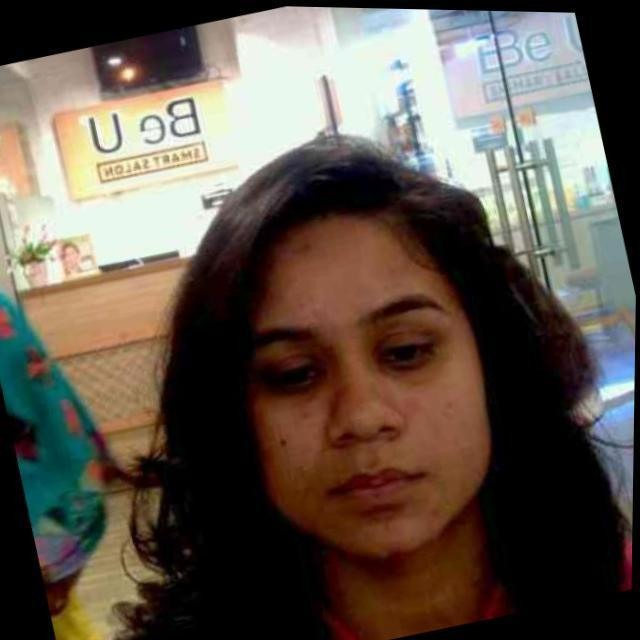puffy_eyes: (265, 376, 325, 394), (386, 355, 429, 371)
